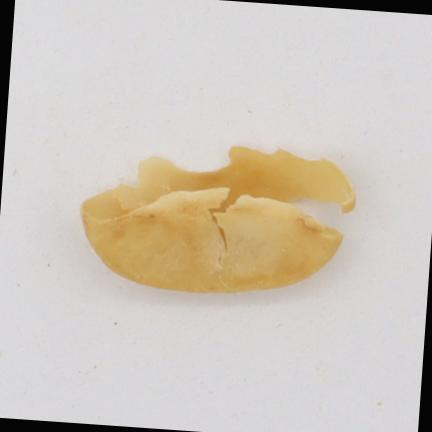parchment: (81, 146, 354, 292)
